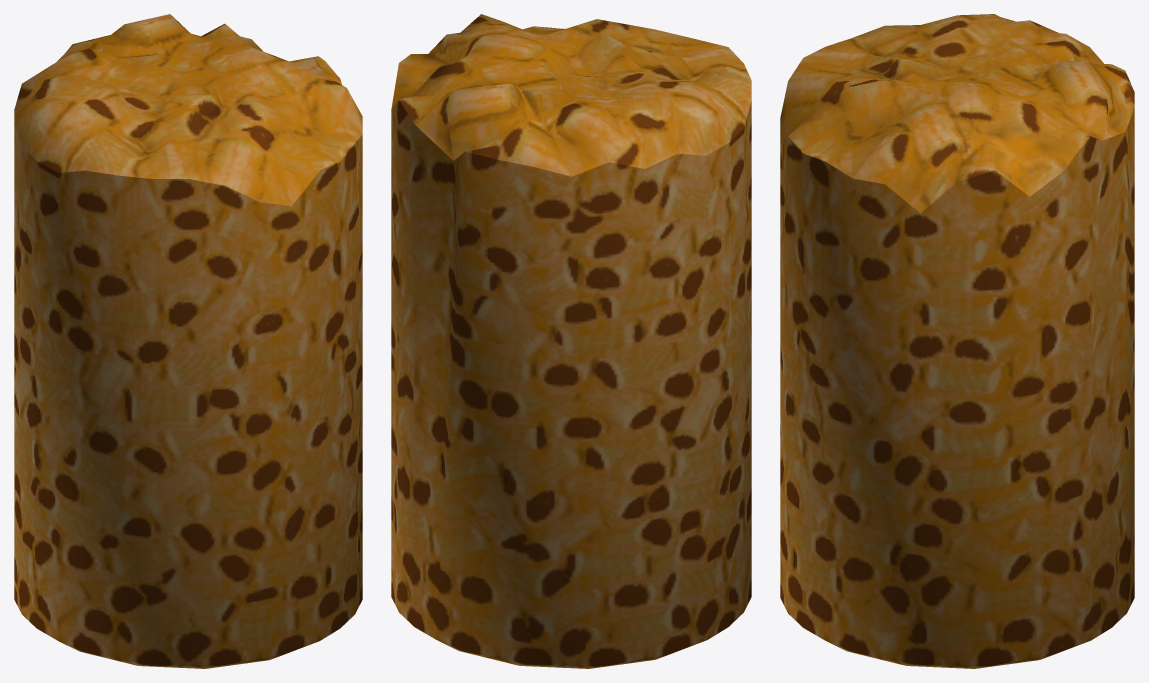
Rendered from M_Biscuit_01.FBX.
3 views of the same model, side by side, from view 1: azimuth 30°, elevation 25°; view 2: azimuth 150°, elevation 25°; view 3: azimuth 270°, elevation 25° (orthographic). The views are drawn at different scales.
Parts seen in each view (by area): view 1: M_Biscuit_01; view 2: M_Biscuit_01; view 3: M_Biscuit_01.
Part boxes in pixels (box(x1,y1,x2,y2)): M_Biscuit_01: box(14, 14, 362, 668); M_Biscuit_01: box(391, 14, 751, 668); M_Biscuit_01: box(780, 14, 1134, 668).
Bounding box in the file's own units: 14.16 × 14.09 × 23.78.
